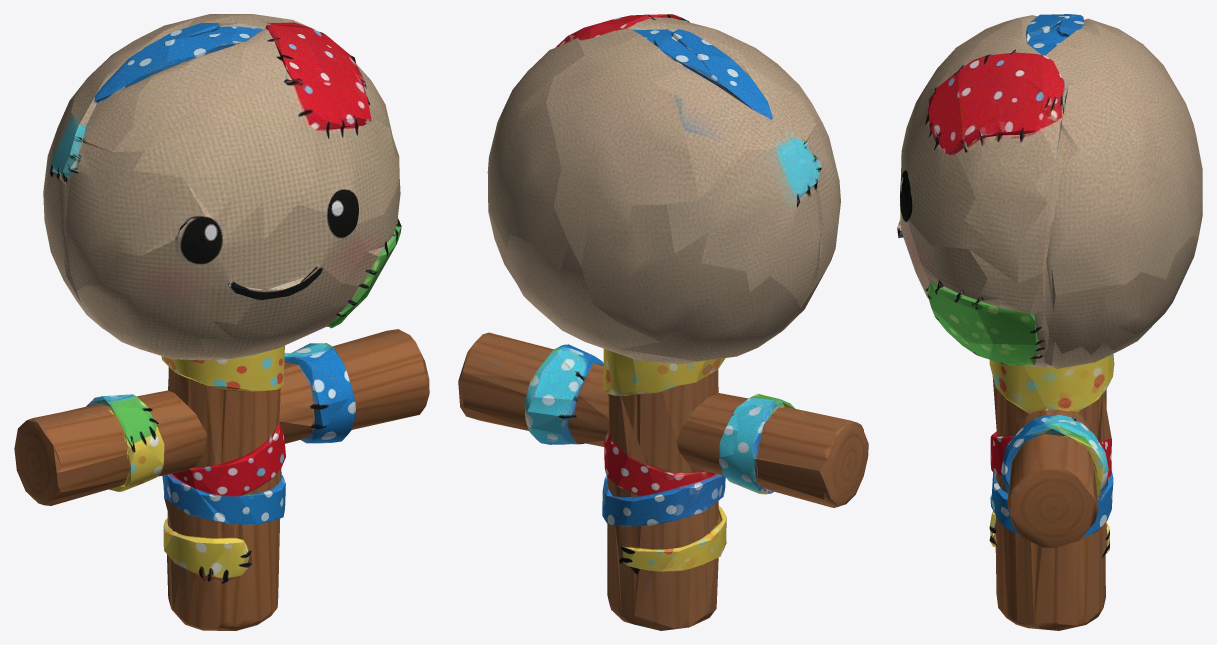
Rendered from boneco.glb.
The picture shows the model from 3 angles, left to right: view 1: azimuth 30°, elevation 25°; view 2: azimuth 150°, elevation 25°; view 3: azimuth 270°, elevation 25°; orthographic projection.
Bounding box in the file's own units: 1.28 × 1.9 × 0.9004.
1 material, 1 textured.
